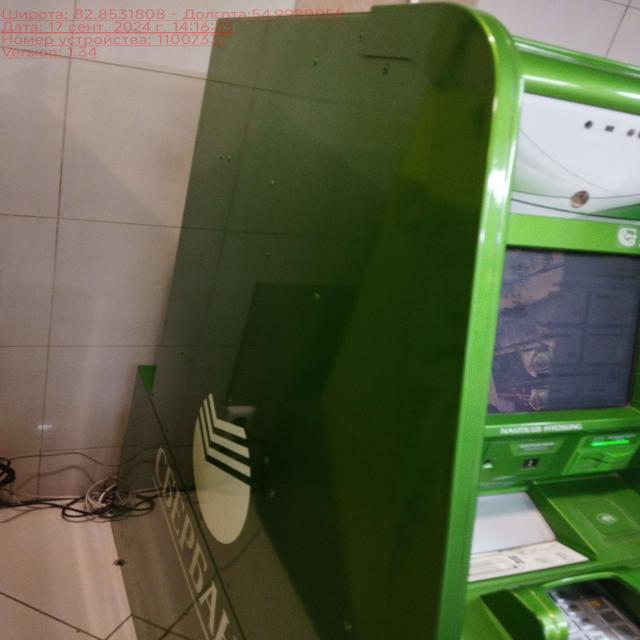bank: (121, 6, 640, 640)
